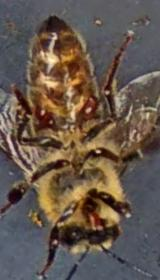varroa_mite: (66, 77, 110, 132), (23, 94, 58, 134)
